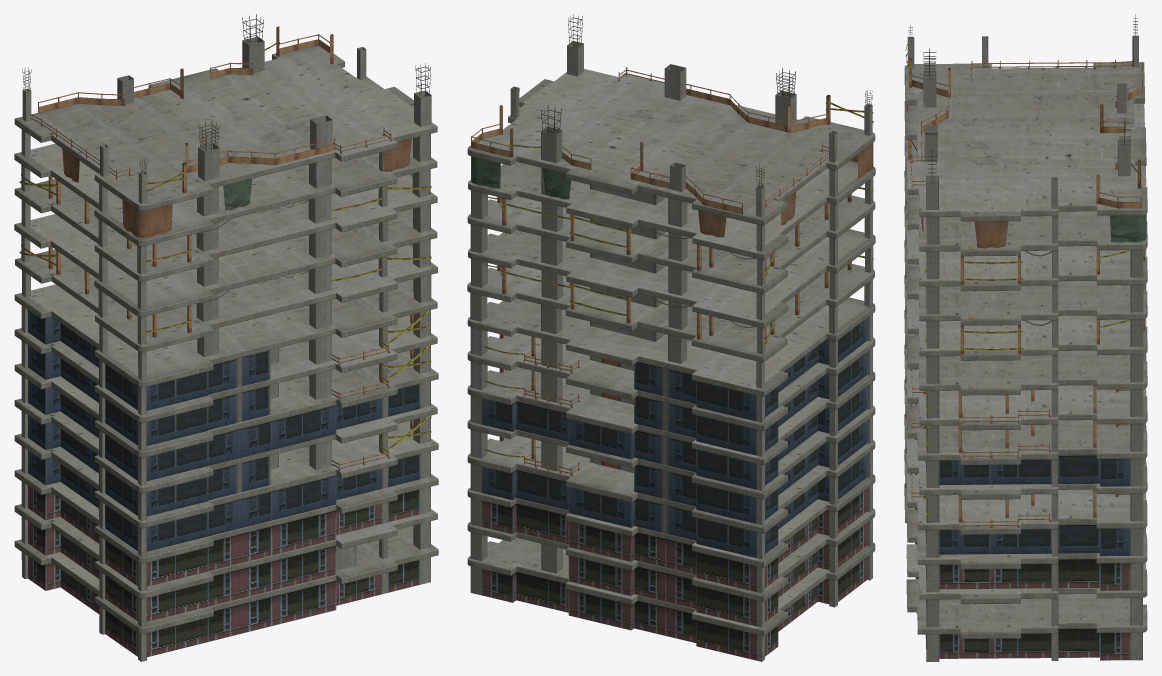
Rendered from build.fbx.
The picture shows the model from 3 angles, left to right: view 1: azimuth 30°, elevation 25°; view 2: azimuth 150°, elevation 25°; view 3: azimuth 270°, elevation 25°; orthographic projection. The views are drawn at different scales.
Parts seen in each view (by area): view 1: Buildings; view 2: Buildings; view 3: Buildings.
Boxes of the visible parts, <box> form: Buildings: <box>14,14,438,661</box>; Buildings: <box>467,14,875,661</box>; Buildings: <box>904,14,1147,661</box>.
Bounding box in the file's own units: 312 × 481 × 208.
